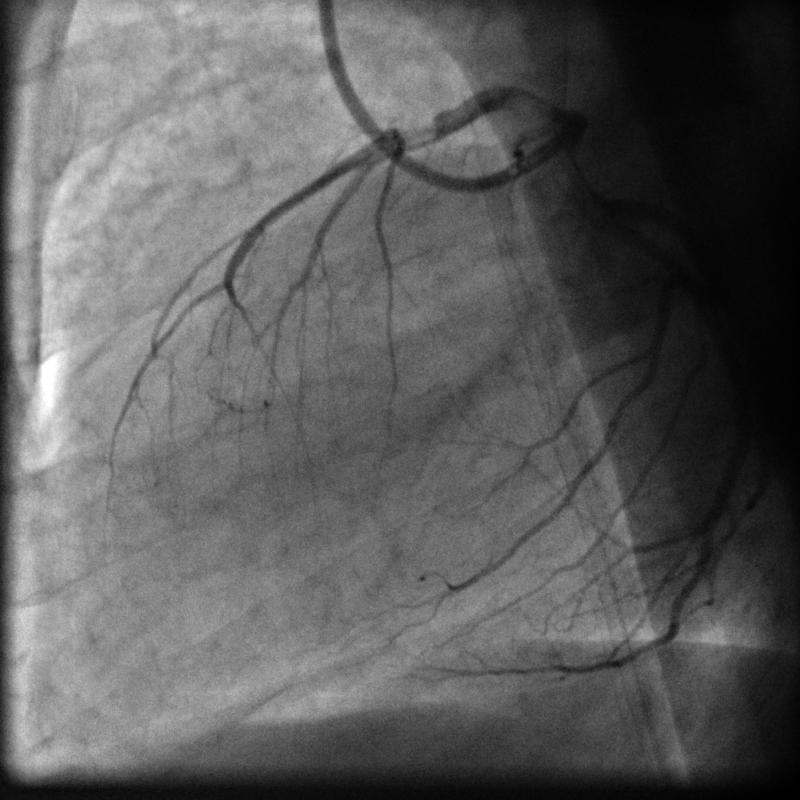Stenosis: (386, 113, 456, 160)
